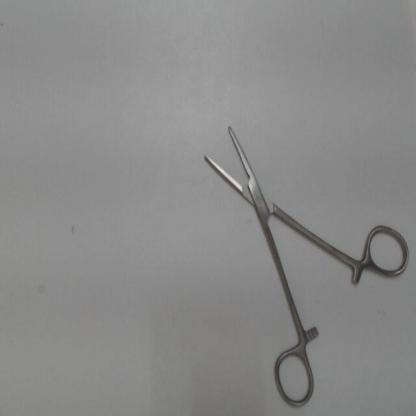Mayo Needle Holder: (185, 99, 412, 413)
